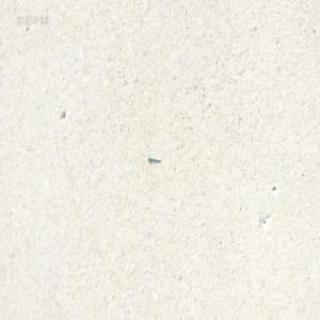Nailtrack_idkeyframe: (146, 153, 159, 161)
